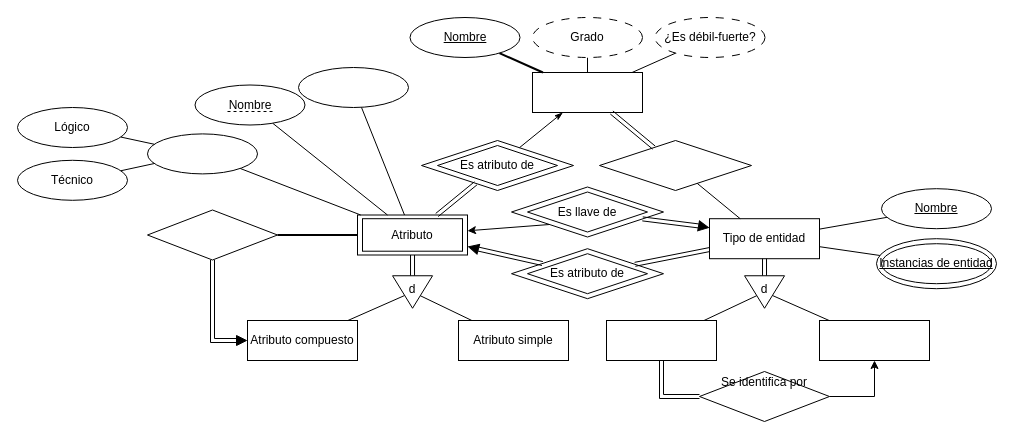
Image size: 1014x439. Some labels were removed from this diagram. The centre of each missing label's shape, as x and y in pixels:
Dominio: [202,153]
Entidad débil: [661,340]
Entidad fuerte: [874,340]
Relaciona a: [675,165]
Relación: [587,92]
Requerido u opcional: [353,87]
Se compone de: [212,234]
